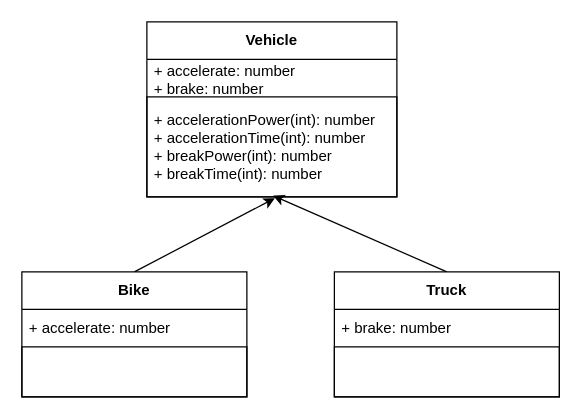
The diagram is 581 pixels wide and 419 high, and some of its shapes have lost their labels. The box of each missing label's shape, as (x1, y1, x2, y2) in pixels:
+ appliedPower(int): number: (21, 346, 247, 397)
+ breakPower(int): number + breakTime(int): number: (333, 346, 559, 397)
